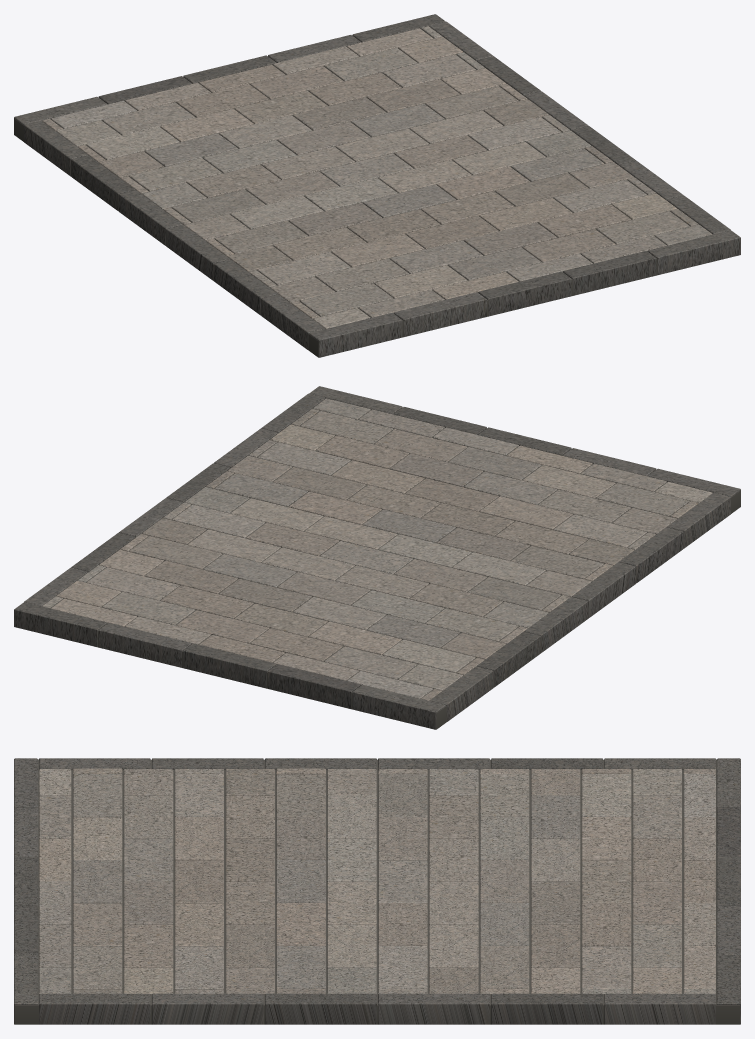
File: floor-paving-standard.glb
3 views of the same model, one above another, from view 1: azimuth 30°, elevation 25°; view 2: azimuth 150°, elevation 25°; view 3: azimuth 270°, elevation 25° (orthographic). The views are drawn at different scales.
Visible parts, largest first — view 1: Individually_sawn_paving, Perimeter_granite, Compacted_base_and_visible_joints; view 2: Individually_sawn_paving, Perimeter_granite, Compacted_base_and_visible_joints; view 3: Individually_sawn_paving, Perimeter_granite, Compacted_base_and_visible_joints.
Boxes of the visible parts, x1,y1,x2,y2 form: Individually_sawn_paving: (42,26,712,328); Perimeter_granite: (14,14,740,357); Compacted_base_and_visible_joints: (14,28,690,357); Individually_sawn_paving: (42,398,712,700); Perimeter_granite: (14,386,740,729); Compacted_base_and_visible_joints: (51,409,740,729); Individually_sawn_paving: (39,768,715,994); Perimeter_granite: (14,758,740,1024); Compacted_base_and_visible_joints: (15,759,739,1024).
Size of the model in its own units: 2.4 by 0.097 by 3.
2 materials, 1 textured.
